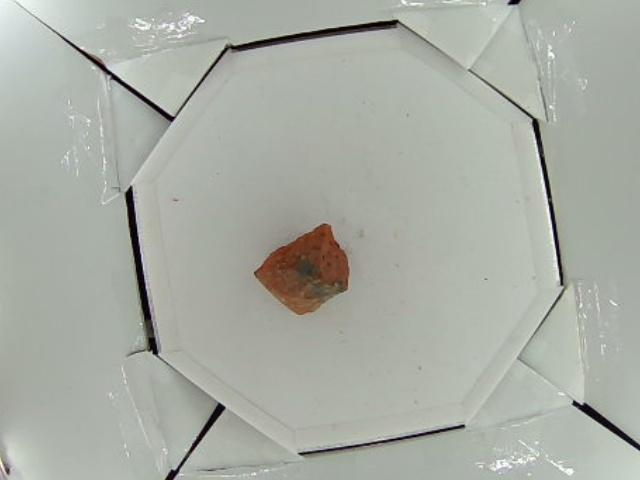Brisk: (256, 224, 347, 315)
